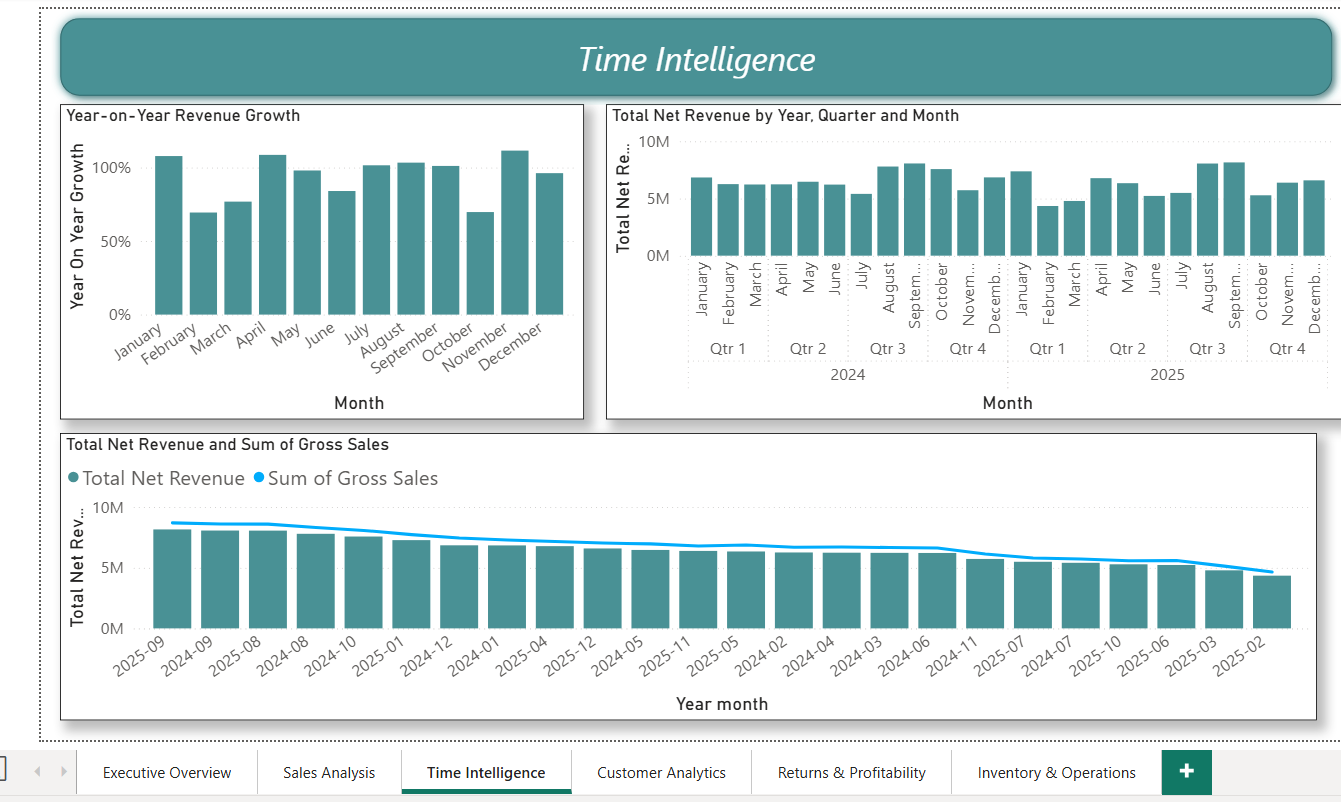

What the dashboard file says about the page in this screenshot:
{"tool":"powerbi","page":{"name":"Time Intelligence","canvas":[1280,720],"ordinal":2},"visuals":[{"type":"clusteredColumnChart","fields":{"Category":["Orders_Raw.OrderDate.Variation.Date Hierarchy.Year","Orders_Raw.OrderDate.Variation.Date Hierarchy.Quarter","Orders_Raw.OrderDate.Variation.Date Hierarchy.Month"],"Y":["Orders_Raw.Total Net Revenue"]},"box":[555.7,94.3,724.3,310],"z":0},{"type":"lineStackedColumnComboChart","title":"Year-on-Year Revenue Growth","fields":{"Y":["Orders_Raw.Year On Year Growth"],"Category":["Orders_Raw.OrderDate.Variation.Date Hierarchy.Month"]},"box":[18.6,94.3,515.7,310],"z":1000},{"type":"lineStackedColumnComboChart","title":"Total Net Revenue and Sum of Gross Sales","fields":{"Category":["Orders_Raw.Year month"],"Y":["Orders_Raw.Total Net Revenue"],"Y2":["Sum(Orders_Raw.Gross Sales)"]},"box":[18.6,417.1,1237.1,282.9],"z":2000},{"type":"shape","box":[10,0,1270,94.3],"z":3000}]}

Visuals, with their boxes on the page's 1280x720 design canvas (x1, y1, x2, y2). These are canvas units, not pixel positions in the 1341x802 screenshot, which may show the page scaled, cropped or inside an application window:
clusteredColumnChart - Orders_Raw.OrderDate.Variation.Date Hierarchy.Year x Orders_Raw.OrderDate.Variation.Date Hierarchy.Quarter: x1=556 y1=94 x2=1280 y2=404
"Year-on-Year Revenue Growth" lineStackedColumnComboChart: x1=19 y1=94 x2=534 y2=404
"Total Net Revenue and Sum of Gross Sales" lineStackedColumnComboChart: x1=19 y1=417 x2=1256 y2=700
shape: x1=10 y1=0 x2=1280 y2=94
